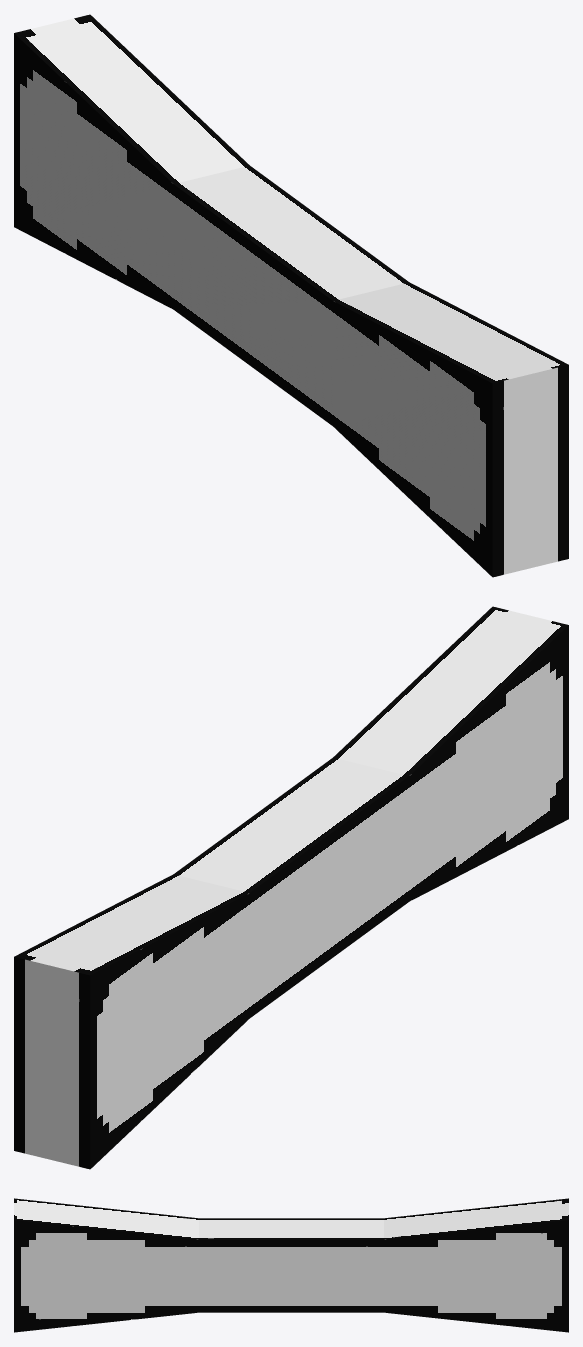
The model's file is middle.gltf.
The picture shows the model from 3 angles, top to bottom: view 1: azimuth 30°, elevation 25°; view 2: azimuth 150°, elevation 25°; view 3: azimuth 270°, elevation 25°; orthographic projection. The views are drawn at different scales.
Parts seen in each view (by area): view 1: cuboid; view 2: cuboid; view 3: cuboid.
Part boxes in pixels (box(x1,y1,x2,y2)): cuboid: box(14, 14, 568, 577); cuboid: box(14, 606, 568, 1169); cuboid: box(14, 1198, 568, 1332).
Size of the model in its own units: 0.4375 by 1.06 by 4.75.
Materials: 1 (1 with a texture image).
